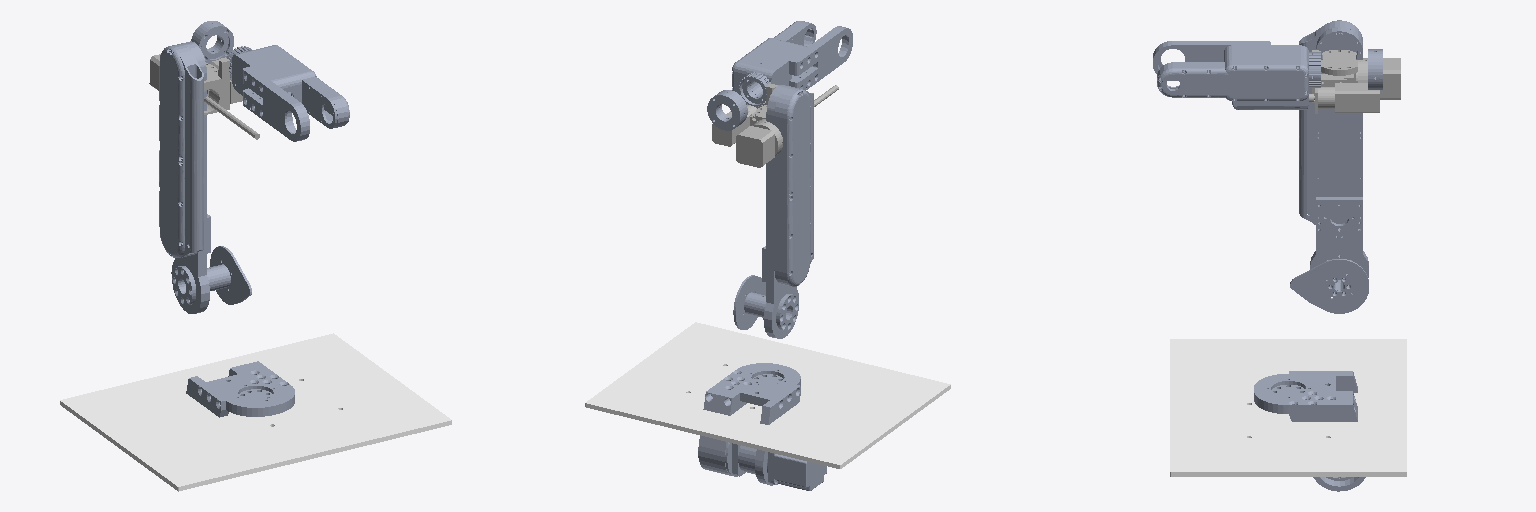
robot.urdf — arm_description:
<?xml version="1.0" encoding="utf-8" ?>
<!-- This URDF was automatically created by SolidWorks to URDF Exporter! Originally created by [author] ([email redacted]) 
     Commit Version: 1.5.1-0-g916b5db  Build Version: 1.5.7152.31018
     For more information, please see http://wiki.ros.org/sw_urdf_exporter -->
<robot name="arm_description">

    <link name="world">
    </link>


 
	<link name="base_link">
        
<inertial>
            <origin xyz="-1.15397205339615E-05 -0.10213687957753 0.0256683807735144" rpy="0 0 0" />
            <mass value="0.66695527839868" />
            <inertia ixx="0.00200785375472586" ixy="8.95894771130143E-07" ixz="-4.55457901869221E-07" iyy="0.0015409663357719" iyz="5.63870746638963E-05" izz="0.00329186572157014" />
        </inertial>

        <visual>
            <origin xyz="0 0 0" rpy="0 0 0" />
            <geometry>
                <mesh filename="package://arm_description/meshes/base_link.STL" />
            </geometry>
            <material name="">
                <color rgba="1 1 1 1" />
            </material>
        </visual>
        <collision>
            <origin xyz="0 0 0" rpy="0 0 0" />
            <geometry>
                <mesh filename="package://arm_description/meshes/base_link.STL" />
            </geometry>
        </collision>
    </link>
 
 
     <joint name="fixed" type="fixed">
        <origin xyz="0 0 0"  />
        <parent link="world" />
        <child link="base_link" />
    </joint>

 
 
    <link name="Link1">
        
<inertial>
            <origin xyz="0.032141 -0.0063693 -0.020838" rpy="0 0 0" />
            <mass value="0.51011" />
            <inertia ixx="0.00048671" ixy="-4.2616E-06" ixz="3.5903E-05" iyy="0.00065864" iyz="2.2456E-06" izz="0.0005653" />
        </inertial>

        <visual>
            <origin xyz="0 0 0" rpy="0 0 0" />
            <geometry>
                <mesh filename="package://arm_description/meshes/Link1.STL" />
            </geometry>
            <material name="">
                <color rgba="0.66667 0.69804 0.76863 1" />
            </material>
        </visual>
        <collision>
            <origin xyz="0 0 0" rpy="0 0 0" />
            <geometry>
                <mesh filename="package://arm_description/meshes/Link1.STL" />
            </geometry>
        </collision>
    </link>
    <joint name="J1" type="revolute">
        <origin xyz="0 0 0.0867" rpy="3.1416 0 1.5708" />
        <parent link="base_link" />
        <child link="Link1" />
        <axis xyz="0 0 1" />
        <limit lower="-3.141593" upper="3.141593" effort="0" velocity="0.2" />
    </joint>
    <link name="Link2">
        
<inertial>
            <origin xyz="0.080422 -0.13477 -0.053585" rpy="0 0 0" />
            <mass value="0.53035" />
            <inertia ixx="0.0020434" ixy="0.0010489" ixz="1.664E-07" iyy="0.00084612" iyz="-8.1845E-08" izz="0.0028454" />
        </inertial>

        <visual>
            <origin xyz="0 0 0" rpy="0 0 0" />
            <geometry>
                <mesh filename="package://arm_description/meshes/Link2.STL" />
            </geometry>
            <material name="">
                <color rgba="0.66667 0.69804 0.76863 1" />
            </material>
        </visual>
        <collision>
            <origin xyz="0 0 0" rpy="0 0 0" />
            <geometry>
                <mesh filename="package://arm_description/meshes/Link2.STL" />
            </geometry>
        </collision>
    </link>
    <joint name="J2" type="revolute">
        <origin xyz="0.064146 -0.007968 -0.083075" rpy="1.5708 0.5236 3.1416" />
        <parent link="Link1" />
        <child link="Link2" />
        <axis xyz="0 0 1" />
        <limit lower="-3.141593" upper="3.141593" effort="0" velocity="0.2" />
    </joint>
    <link name="Link3">
        
<inertial>
            <origin xyz="-0.00102555575202164 -0.00387982974471979 -0.0464271182276246" rpy="0 0 0" />
            <mass value="0.139370701456675" />
            <inertia ixx="4.7707018460657E-05" ixy="-1.11304367458891E-08" ixz="2.21188897459325E-06" iyy="7.90931093716717E-05" iyz="2.06183684225396E-07" izz="6.96384643549249E-05" />
        </inertial>

        <visual>
            <origin xyz="0 0 0" rpy="0 0 0" />
            <geometry>
                <mesh filename="package://arm_description/meshes/Link3.STL" />
            </geometry>
            <material name="">
                <color rgba="0.752941176470588 0.752941176470588 0.752941176470588 1" />
            </material>
        </visual>
        <collision>
            <origin xyz="0 0 0" rpy="0 0 0" />
            <geometry>
                <mesh filename="package://arm_description/meshes/Link3.STL" />
            </geometry>
        </collision>
    </link>
    <joint name="J3" type="revolute">
        <origin xyz="0.1525 -0.26414 -0.043745" rpy="3.1263 0 0.5236" />
        <parent link="Link2" />
        <child link="Link3" />
        <axis xyz="0 0.01527 -0.99988" />
        <limit lower="-3.141593" upper="3.141593" effort="0" velocity="0.2" />
    </joint>
    <link name="Link4">
        
<inertial>
            <origin xyz="-0.00392412669689435 0.00112688757108009 0.090746722191295" rpy="0 0 0" />
            <mass value="0.290695240644425" />
            <inertia ixx="0.000575263509263945" ixy="-2.22197708945538E-06" ixz="4.62059886126857E-06" iyy="0.000516200265723224" iyz="1.48107971263623E-05" izz="0.000101002671430719" />
        </inertial>

        <visual>
            <origin xyz="0 0 0" rpy="0 0 0" />
            <geometry>
                <mesh filename="package://arm_description/meshes/Link4.STL" />
            </geometry>
            <material name="">
                <color rgba="0.666666666666667 0.698039215686274 0.768627450980392 1" />
            </material>
        </visual>
        <collision>
            <origin xyz="0 0 0" rpy="0 0 0" />
            <geometry>
                <mesh filename="package://arm_description/meshes/Link4.STL" />
            </geometry>
        </collision>
    </link>
    <joint name="J4" type="revolute">
        <origin xyz="-0.035639 0.00078946 -0.051694" rpy="1.5708 -1.5555 -1.5708" />
        <parent link="Link3" />
        <child link="Link4" />
        <axis xyz="0 0 -1" />
        <limit lower="-3.141593" upper="3.141593" effort="0" velocity="0.2" />
    </joint>
    
<transmission name="trans_J1">
        <type>transmission_interface/SimpleTransmission</type>
        <joint name="J1">
            <hardwareInterface>hardware_interface/EffortJointInterface</hardwareInterface>
        </joint>
        <actuator name="J1_motor">
            <hardwareInterface>EffortJointInterface</hardwareInterface>
            <mechanicalReduction>1</mechanicalReduction>
        </actuator>
    </transmission>
    <transmission name="trans_J2">
        <type>transmission_interface/SimpleTransmission</type>
        <joint name="J2">
            <hardwareInterface>hardware_interface/EffortJointInterface</hardwareInterface>
        </joint>
        <actuator name="J2_motor">
            <hardwareInterface>EffortJointInterface</hardwareInterface>
            <mechanicalReduction>1</mechanicalReduction>
        </actuator>
    </transmission>
    <transmission name="trans_J3">
        <type>transmission_interface/SimpleTransmission</type>
        <joint name="J3">
            <hardwareInterface>hardware_interface/EffortJointInterface</hardwareInterface>
        </joint>
        <actuator name="J3_motor">
            <hardwareInterface>EffortJointInterface</hardwareInterface>
            <mechanicalReduction>1</mechanicalReduction>
        </actuator>
    </transmission>
    <transmission name="trans_J4">
        <type>transmission_interface/SimpleTransmission</type>
        <joint name="J4">
            <hardwareInterface>hardware_interface/EffortJointInterface</hardwareInterface>
        </joint>
        <actuator name="J4_motor">
            <hardwareInterface>EffortJointInterface</hardwareInterface>
            <mechanicalReduction>1</mechanicalReduction>
        </actuator>
    </transmission>
    <gazebo>
        <plugin name="gazebo_ros_control" filename="libgazebo_ros_control.so"/>
    </gazebo>
</robot>

--- Render facts (derived) ---
Views: 3 orthographic renders of the robot side by side, from view 1: azimuth 30°, elevation 25°; view 2: azimuth 150°, elevation 25°; view 3: azimuth 270°, elevation 25°.
Robot: arm_description — 6 links, 5 joints (4 revolute, 1 fixed); root link world; default pose: every joint at zero.
Links seen in each view (by area): view 1: base_link, Link2, Link4, Link1, Link3; view 2: base_link, Link2, Link1, Link4, Link3; view 3: base_link, Link2, Link4, Link1, Link3.
Link boxes in pixels (bbox=[...]): base_link: bbox=[60, 333, 451, 491]; Link2: bbox=[159, 41, 251, 313]; Link4: bbox=[191, 21, 349, 141]; Link1: bbox=[186, 361, 294, 417]; Link3: bbox=[149, 54, 259, 139]; base_link: bbox=[585, 322, 950, 468]; Link2: bbox=[733, 85, 813, 338]; Link1: bbox=[698, 363, 826, 490]; Link4: bbox=[707, 21, 852, 130]; Link3: bbox=[712, 84, 838, 167]; base_link: bbox=[1170, 339, 1406, 476]; Link2: bbox=[1290, 20, 1368, 313]; Link4: bbox=[1153, 41, 1382, 109]; Link1: bbox=[1254, 371, 1365, 491]; Link3: bbox=[1308, 50, 1400, 113].
Size in the robot's own frame: 0.4 by 0.3223 by 0.5951 metres.
5 mesh visuals loaded from 5 distinct referenced files (5 binary STL).